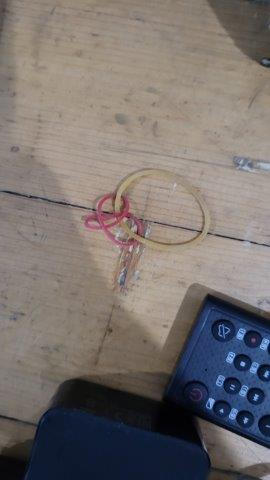karet: (87, 169, 213, 252)
